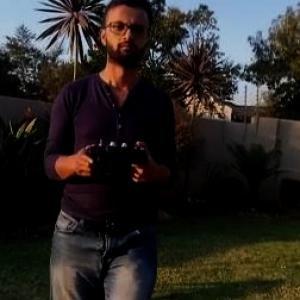follow: (39, 0, 183, 299)
